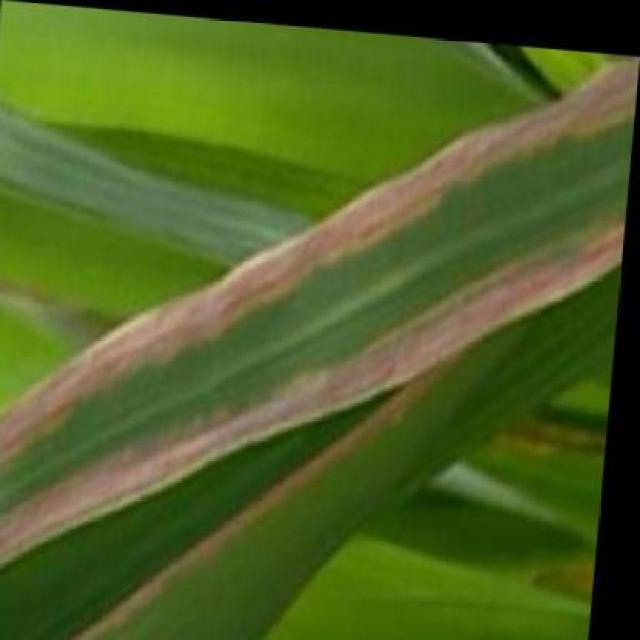Brown_Spot: (213, 50, 636, 381)
